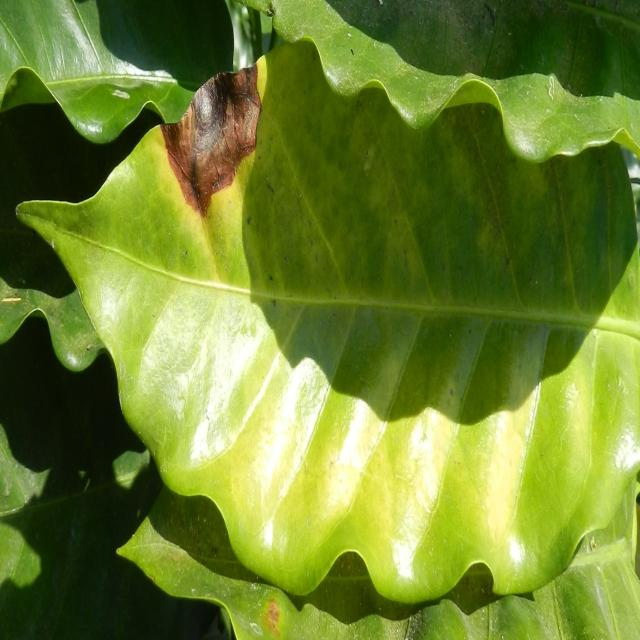Enfermedad-Mancha-de-hierro: (15, 41, 640, 608)
